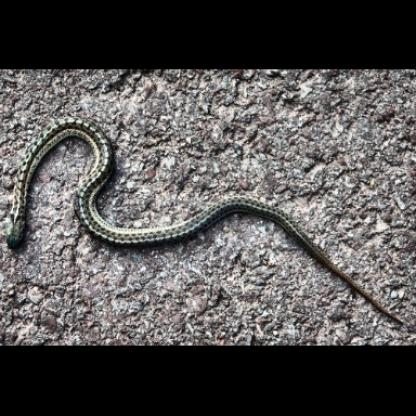Snake: (4, 115, 223, 259), (226, 194, 401, 322)
